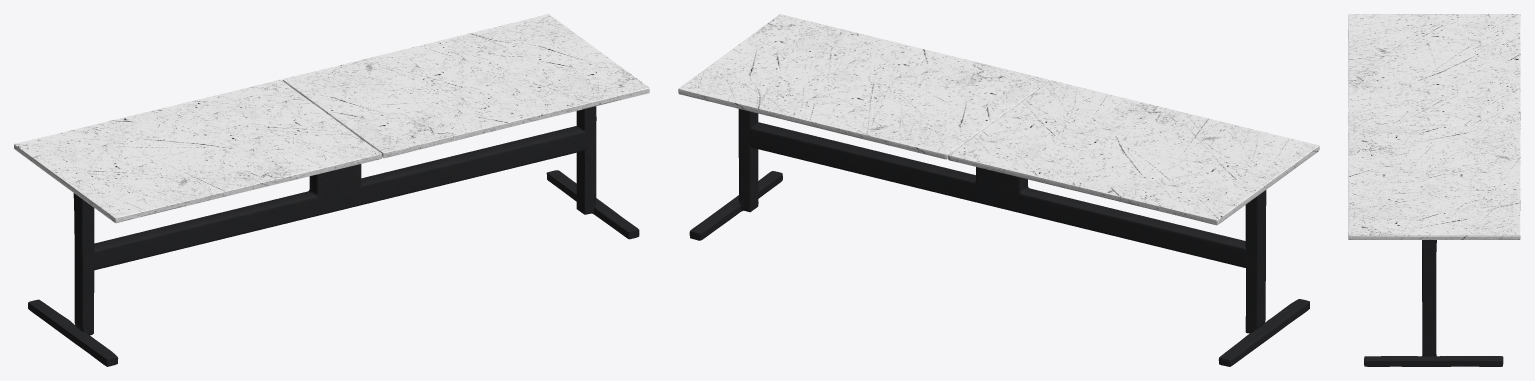
Rendered from office-table.glb.
3 views of the same model, side by side, from view 1: azimuth 30°, elevation 25°; view 2: azimuth 150°, elevation 25°; view 3: azimuth 270°, elevation 25° (orthographic). The views are drawn at different scales.
Parts seen in each view (by area): view 1: office-table; view 2: office-table; view 3: office-table.
Boxes of the visible parts, x1,y1,x2,y2 form: office-table: [14, 14, 649, 366]; office-table: [678, 14, 1319, 366]; office-table: [1348, 14, 1520, 366].
Bounding box in the file's own units: 3.13 × 0.8716 × 1.03.
Materials: 2 (2 with a texture image).
